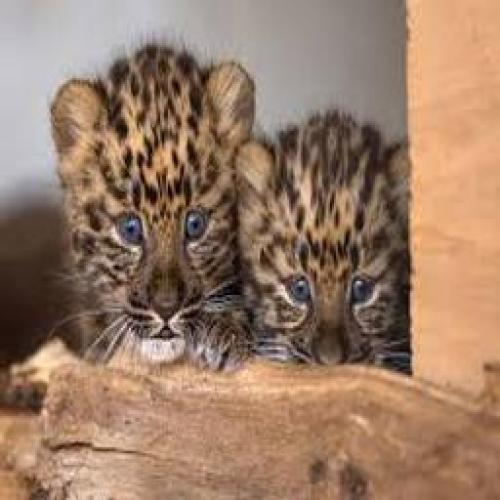amur_leopard-endangered: (44, 44, 255, 370), (233, 108, 410, 376)
